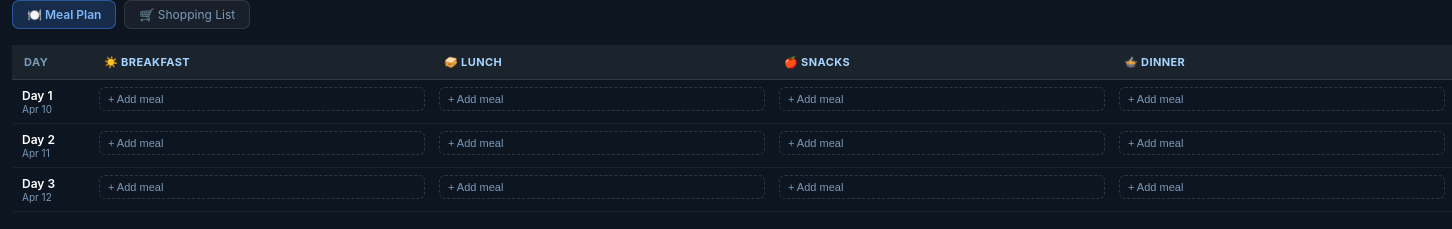
MealsTab integration › shopping list tab renders empty state when no items
Step 1. Click the text "🛒 Shopping List" → point(187, 14), box [124, 0, 250, 29]
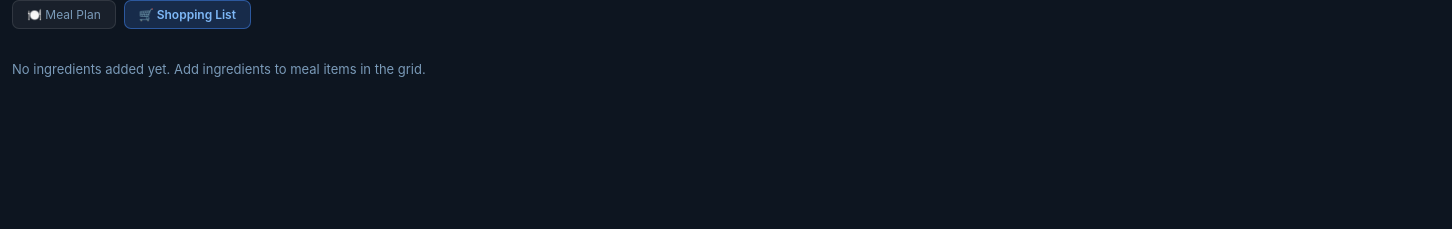
Now the text "No ingredients added yet" is shown, box [12, 61, 426, 77]
